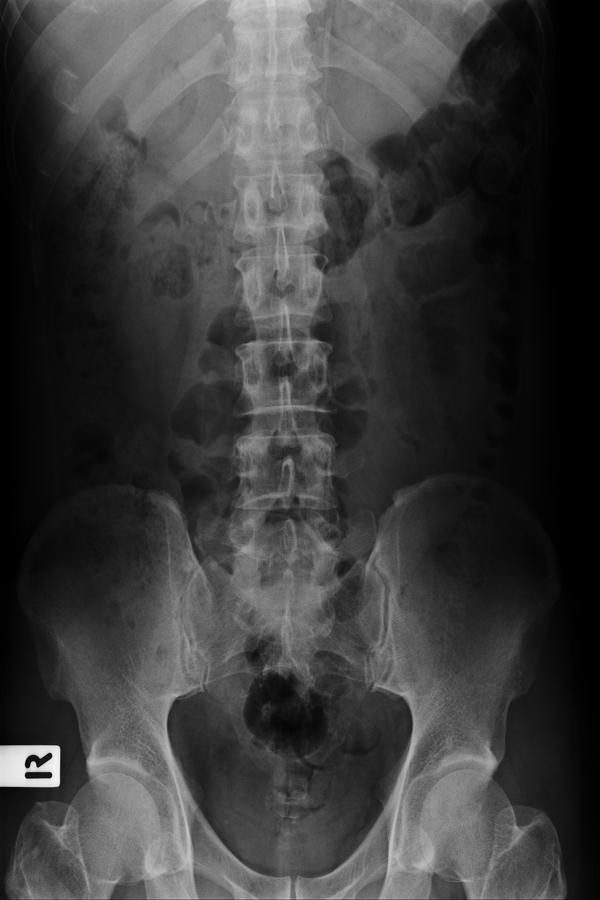not lumbar scoliosis: (225, 208, 347, 602)
